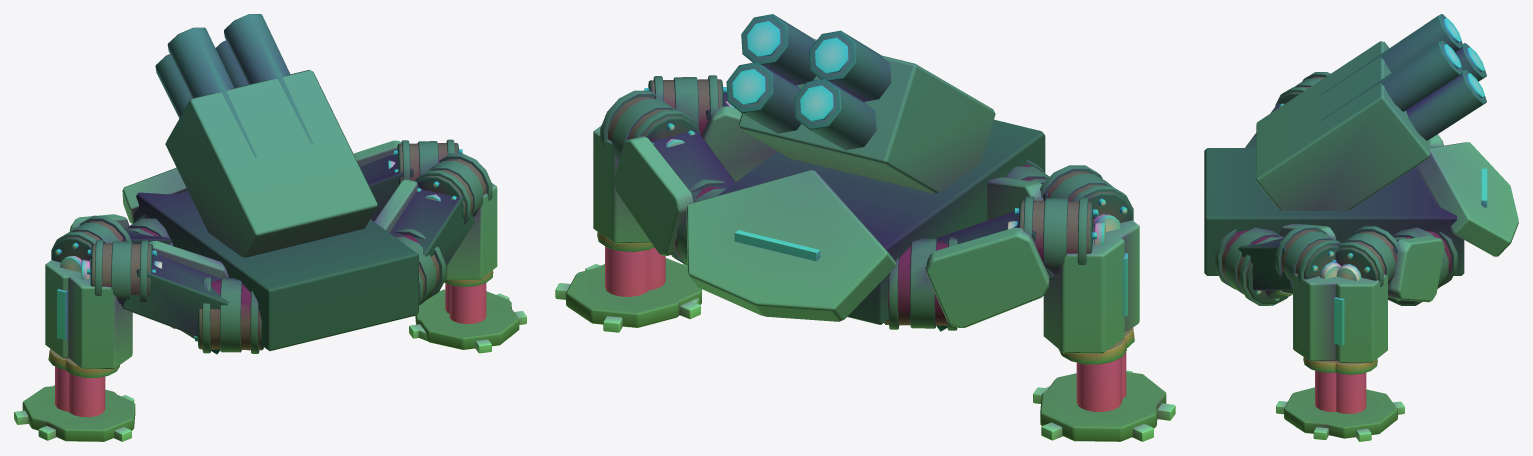
File: mortar.glb
3 renders of one model, left to right at view 1: azimuth 30°, elevation 25°; view 2: azimuth 150°, elevation 25°; view 3: azimuth 270°, elevation 25°, orthographic. The views are drawn at different scales.
Visible parts, largest first — view 1: Abdomen__armor_sub, Body__dark, Abdomen__gunmetal, Hip_2__dark, Hip_2_Knee__armor, Hip_3__dark, Hip_3_Knee__armor_sub, Hip_3_Knee__armor, Hip_2_Knee__armor_sub, Hip_2__gunmetal, Hip_2_Knee__chrome, Hip_2_Knee__gunmetal (+20 smaller); view 2: Body__armor, Abdomen__armor_sub, Body__dark, Abdomen__gunmetal, Hip_0__armor, Hip_0_Knee__armor, Hip_1__armor, Abdomen__emit_core, Hip_0_Knee__chrome, Hip_1_Knee__armor, Hip_1_Knee__armor_sub, Hip_3__armor (+22 smaller); view 3: Abdomen__armor_sub, Body__dark, Abdomen__gunmetal, Body__armor, Hip_1_Knee__armor, Hip_3_Knee__armor, Hip_1__armor, Hip_3__dark, Hip_3__gunmetal, Hip_1_Knee__armor_sub, Hip_1_Knee__chrome, Hip_3_Knee__armor_sub (+12 smaller).
Boxes of the visible parts, x1,y1,x2,y2 form: Abdomen__armor_sub: (165, 70, 377, 257); Body__dark: (133, 191, 418, 351); Abdomen__gunmetal: (155, 14, 312, 157); Hip_2__dark: (121, 254, 263, 354); Hip_2_Knee__armor: (67, 270, 132, 369); Hip_3__dark: (390, 189, 474, 293); Hip_3_Knee__armor_sub: (418, 298, 519, 349); Hip_3_Knee__armor: (446, 183, 497, 279); Hip_2_Knee__armor_sub: (39, 390, 135, 441); Hip_2__gunmetal: (181, 276, 259, 353); Hip_2_Knee__chrome: (38, 249, 162, 441); Hip_2_Knee__gunmetal: (94, 240, 148, 304); Body__armor: (686, 169, 895, 321); Abdomen__armor_sub: (738, 39, 995, 193); Body__dark: (718, 119, 1045, 324); Abdomen__gunmetal: (726, 14, 891, 150); Hip_0__armor: (926, 227, 1049, 327); Hip_0_Knee__armor: (1043, 236, 1124, 353); Hip_1__armor: (614, 136, 694, 255); Abdomen__emit_core: (732, 21, 848, 121); Hip_0_Knee__chrome: (1007, 208, 1153, 441); Hip_1_Knee__armor: (593, 125, 651, 243); Hip_1_Knee__armor_sub: (566, 266, 680, 327); Hip_3__armor: (701, 106, 777, 182); Abdomen__armor_sub: (1256, 41, 1430, 210); Body__dark: (1204, 148, 1464, 275); Abdomen__gunmetal: (1319, 14, 1486, 140); Body__armor: (1416, 142, 1518, 256); Hip_1_Knee__armor: (1335, 274, 1387, 362); Hip_3_Knee__armor: (1293, 273, 1345, 361); Hip_1__armor: (1388, 236, 1444, 302); Hip_3__dark: (1222, 230, 1292, 303); Hip_3__gunmetal: (1215, 227, 1288, 305); Hip_1_Knee__armor_sub: (1302, 389, 1397, 438); Hip_1_Knee__chrome: (1296, 253, 1404, 441); Hip_3_Knee__armor_sub: (1284, 387, 1379, 433).
Size of the model in its own units: 2.46 by 1.5 by 1.43.
